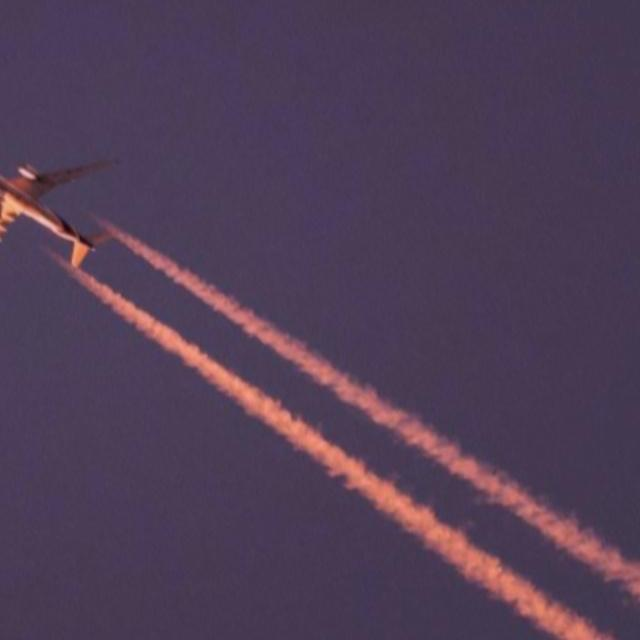airplane: (0, 140, 136, 280)
